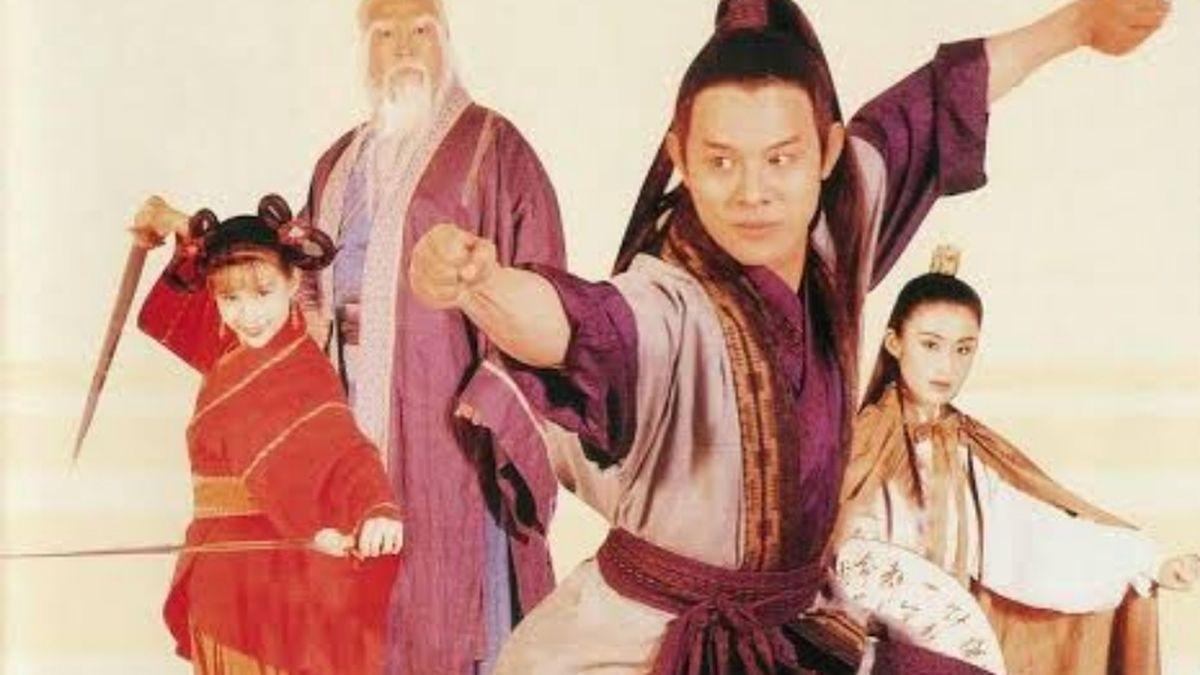espada: (61, 213, 169, 456)
